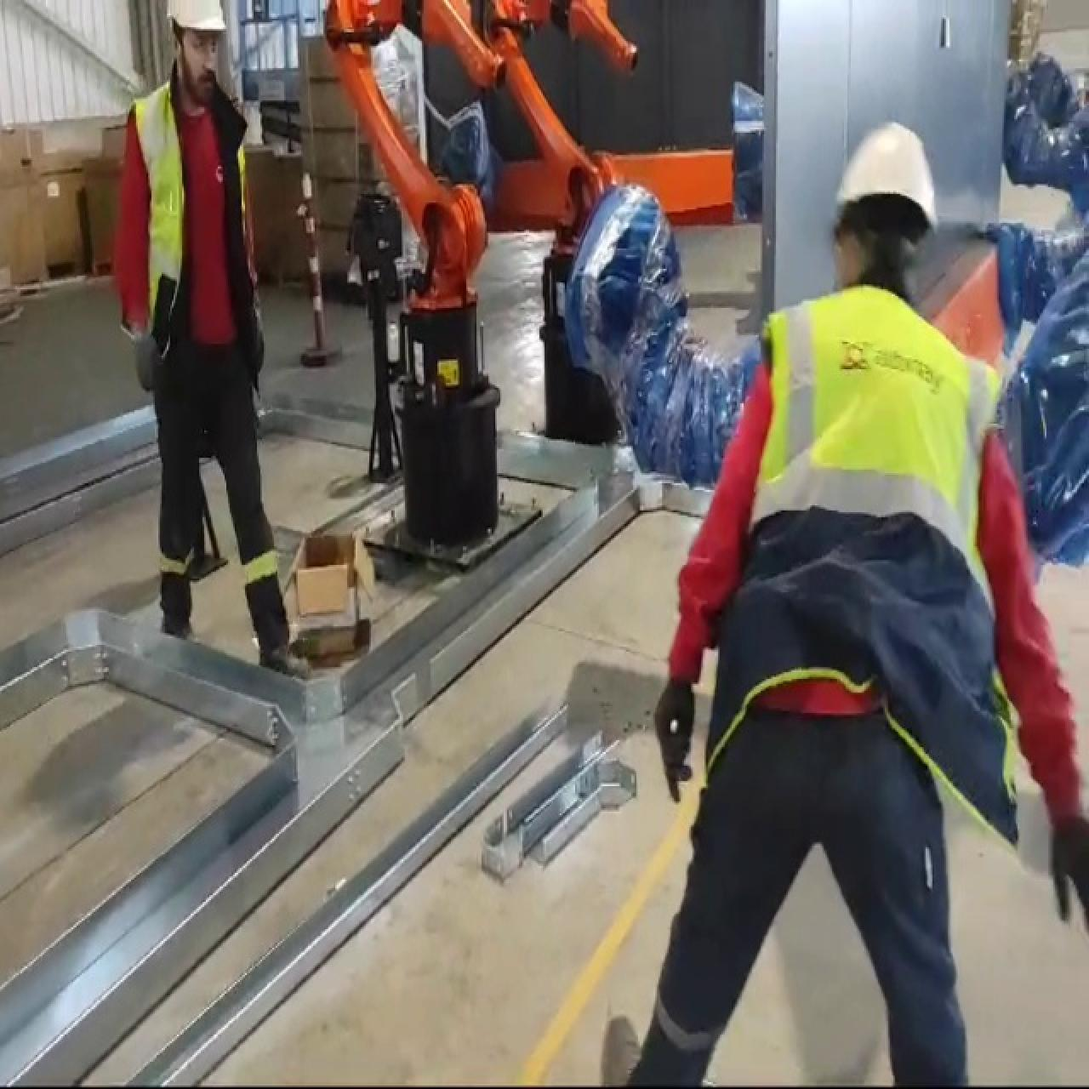Person: (647, 100, 1089, 1089), (100, 0, 321, 676)
Safety_Vest: (716, 294, 1053, 853), (128, 86, 277, 328)
